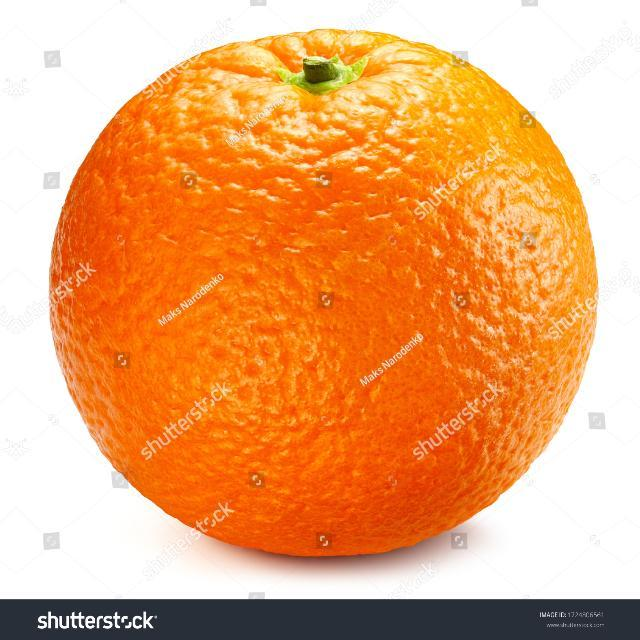Orange: (46, 26, 599, 558)
